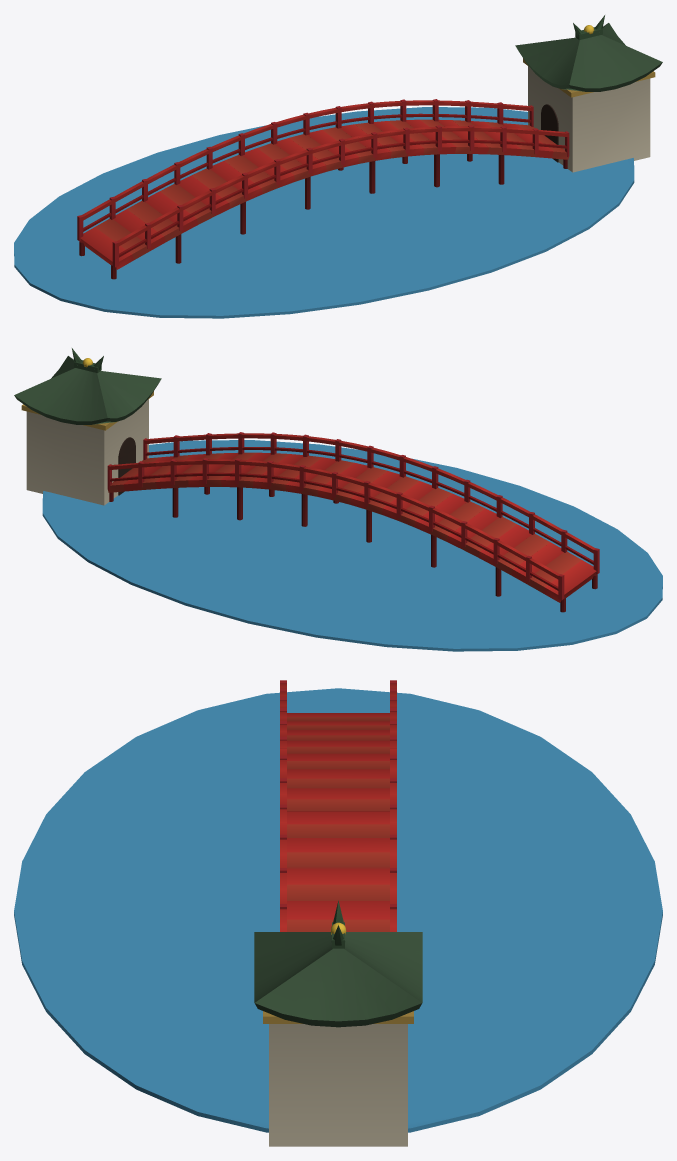
File: lm-thehuc.glb
3 renders of one model, top to bottom at view 1: azimuth 30°, elevation 25°; view 2: azimuth 150°, elevation 25°; view 3: azimuth 270°, elevation 25°, orthographic. The views are drawn at different scales.
Bounding box in the file's own units: 18.75 × 4.5 × 11.2.
